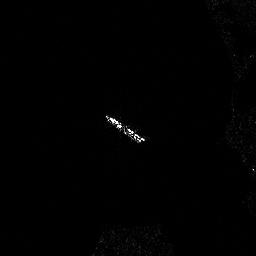ship: (101, 113, 147, 144)
